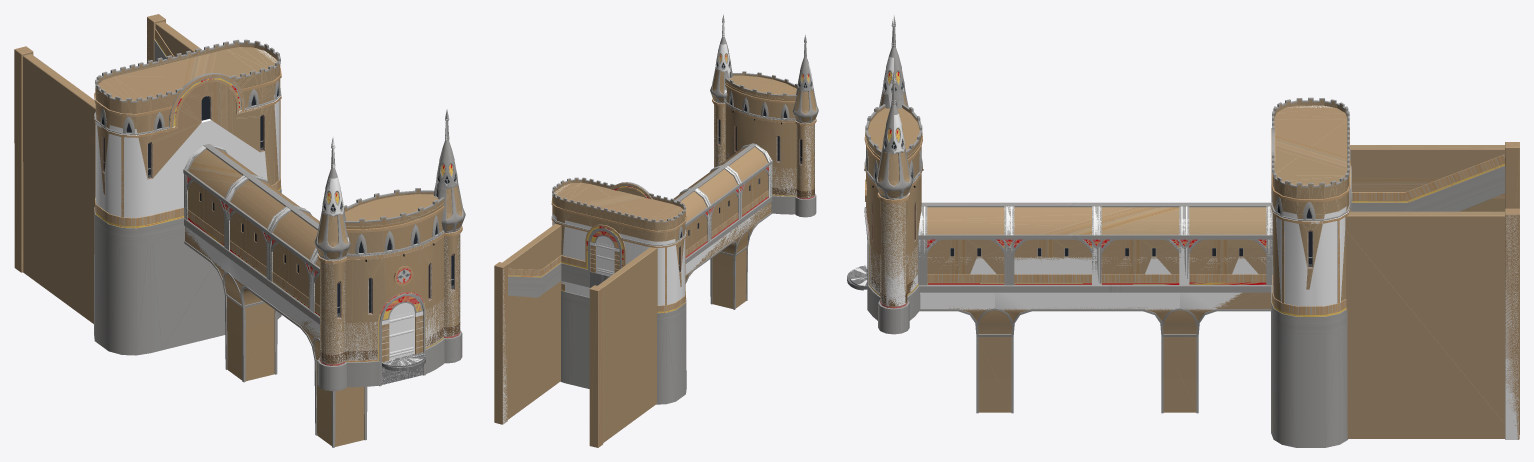
File: objects_un_c01bridgegate01.gltf
3 views of the same model, side by side, from view 1: azimuth 30°, elevation 25°; view 2: azimuth 150°, elevation 25°; view 3: azimuth 270°, elevation 25° (orthographic). The views are drawn at different scales.
Visible parts, largest first — view 1: um_objects_un_c01bridgegate01_model_lod0Shape:objects_un_c01 (×7), um_objects_un_c01bridgegate01_model_lod1Shape:objects_un_c01 (×3), um_objects_un_c01bridgegate01_model_lod2Shape:objects_un_c01 (×2); view 2: um_objects_un_c01bridgegate01_model_lod0Shape:objects_un_c01 (×6), um_objects_un_c01bridgegate01_model_lod1Shape:objects_un_c01 (×2), um_objects_un_c01bridgegate01_model_lod2Shape:objects_un_c01 (×2); view 3: um_objects_un_c01bridgegate01_model_lod0Shape:objects_un_c01 (×5), um_objects_un_c01bridgegate01_model_lod2Shape:objects_un_c01 (×2), um_objects_un_c01bridgegate01_model_lod1Shape:objects_un_c01 (×2).
Part boxes in pixels (bbox=[...]): um_objects_un_c01bridgegate01_model_lod0Shape:objects_un_c01 (×7): bbox=[14, 14, 465, 440]; um_objects_un_c01bridgegate01_model_lod1Shape:objects_un_c01 (×3): bbox=[95, 40, 463, 318]; um_objects_un_c01bridgegate01_model_lod2Shape:objects_un_c01 (×2): bbox=[101, 39, 462, 447]; um_objects_un_c01bridgegate01_model_lod0Shape:objects_un_c01 (×6): bbox=[494, 14, 818, 447]; um_objects_un_c01bridgegate01_model_lod1Shape:objects_un_c01 (×2): bbox=[552, 53, 817, 259]; um_objects_un_c01bridgegate01_model_lod2Shape:objects_un_c01 (×2): bbox=[508, 27, 812, 309]; um_objects_un_c01bridgegate01_model_lod0Shape:objects_un_c01 (×5): bbox=[851, 14, 1519, 447]; um_objects_un_c01bridgegate01_model_lod2Shape:objects_un_c01 (×2): bbox=[866, 32, 1505, 413]; um_objects_un_c01bridgegate01_model_lod1Shape:objects_un_c01 (×2): bbox=[865, 56, 1349, 286].
Bounding box in the file's own units: 46.39 × 90.01 × 152.
7 materials, 5 textured.
